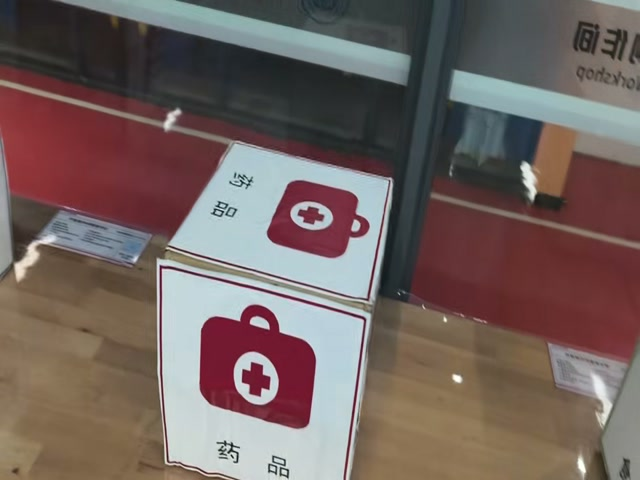Cube_medicine: (157, 132, 397, 313)
